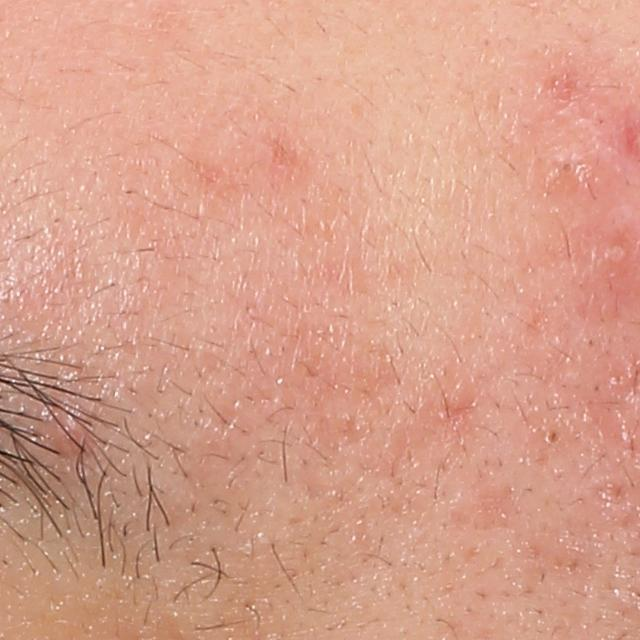comedo: (539, 153, 601, 204), (542, 426, 562, 445)
papule: (49, 397, 98, 454)
